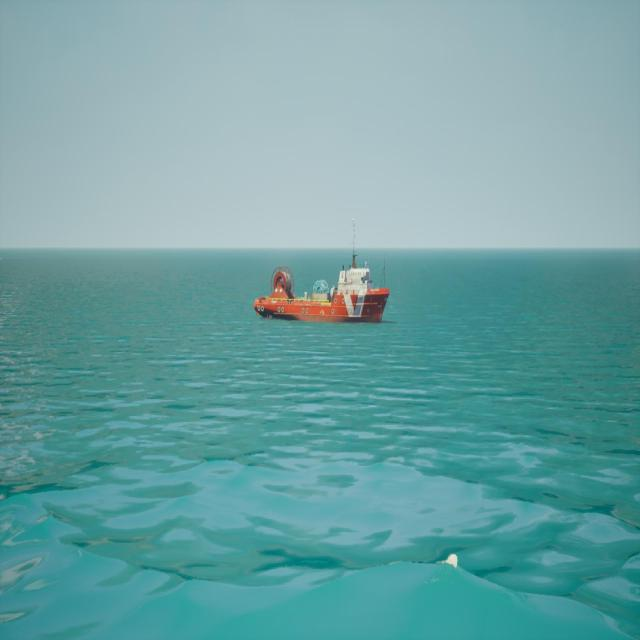tug boat: (256, 222, 391, 325)
